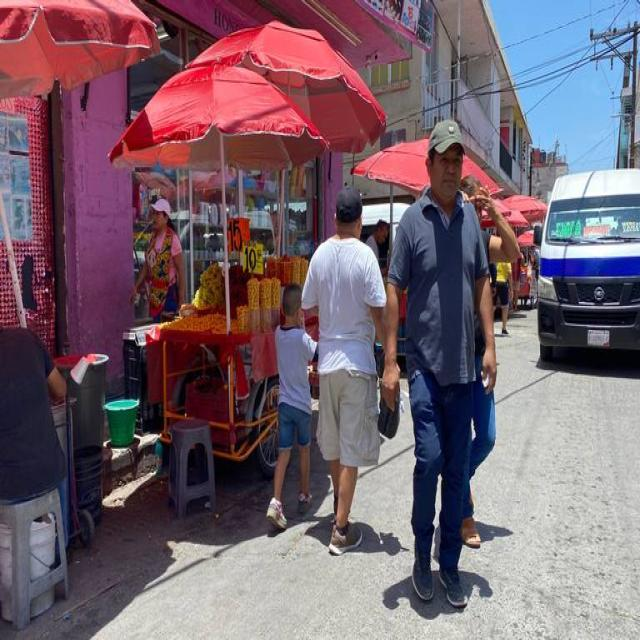person: (371, 100, 498, 618), (294, 183, 388, 560), (260, 268, 330, 525), (125, 168, 196, 332)
